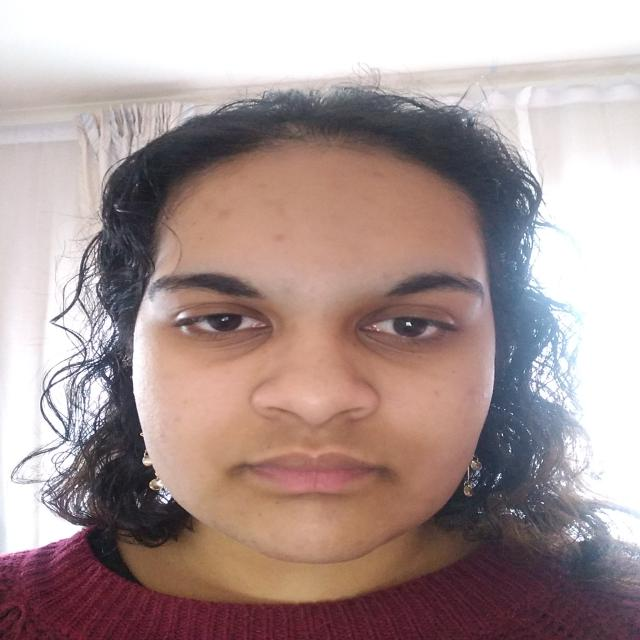Acne: (252, 178, 273, 192), (213, 208, 236, 220), (273, 232, 288, 246), (369, 168, 386, 180), (374, 270, 396, 279), (242, 536, 260, 547), (427, 390, 450, 398), (174, 414, 187, 428), (480, 392, 492, 400), (356, 539, 366, 547)
Eyebags: (355, 329, 459, 366), (174, 323, 274, 361)
